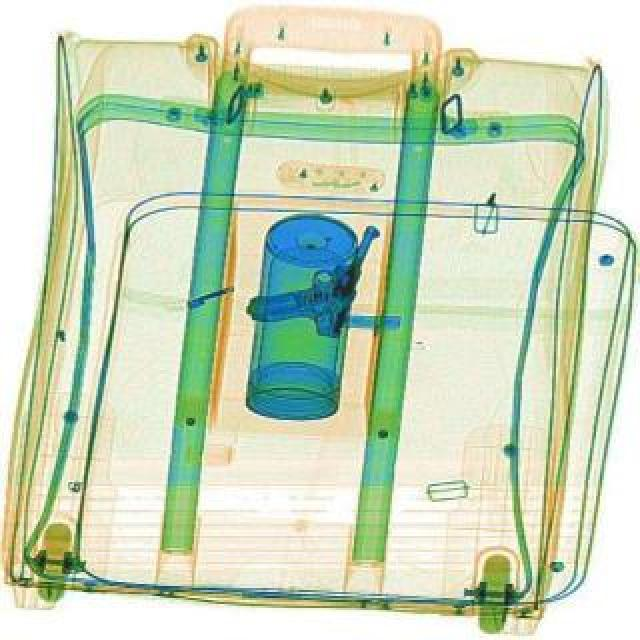gun: (240, 196, 382, 348)
